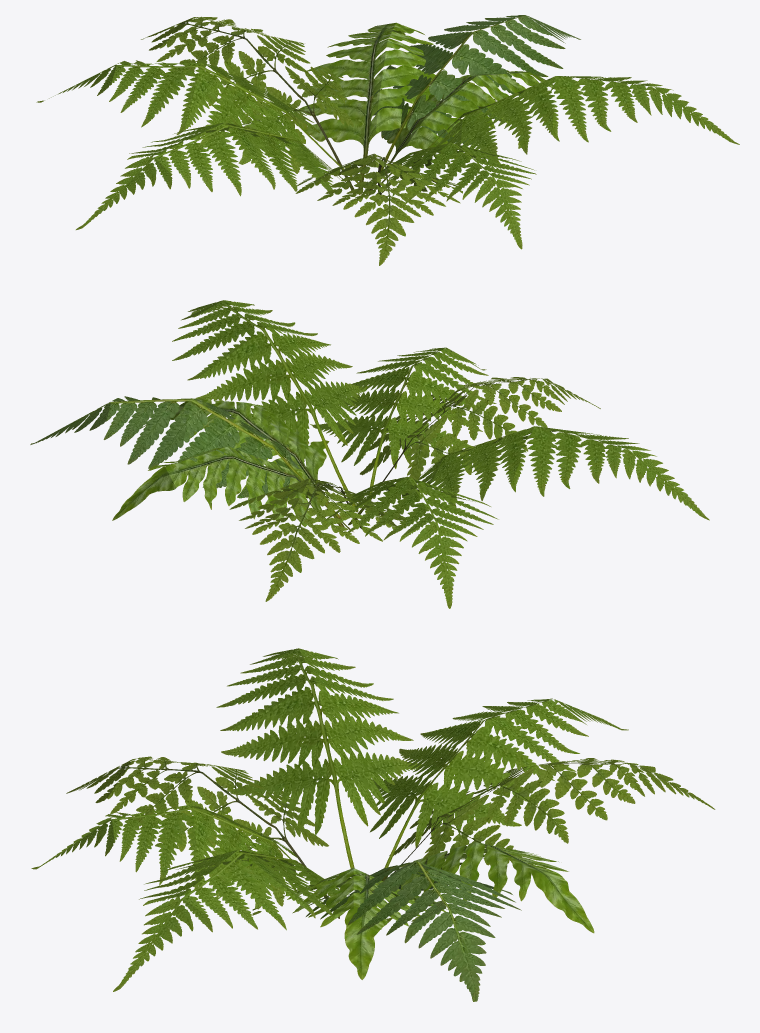
Rendered from fern_02.glb.
3 views of the same model, one above another, from view 1: azimuth 30°, elevation 25°; view 2: azimuth 150°, elevation 25°; view 3: azimuth 270°, elevation 25° (orthographic). The views are drawn at different scales.
Visible parts, largest first — view 1: fern_02; view 2: fern_02; view 3: fern_02.
Boxes of the visible parts, bbox=[...] form: fern_02: bbox=[36, 15, 739, 265]; fern_02: bbox=[30, 300, 709, 608]; fern_02: bbox=[31, 648, 715, 1001].
Bounding box in the file's own units: 2.04 × 0.3889 × 1.74.
Materials: 1 (1 with a texture image).
